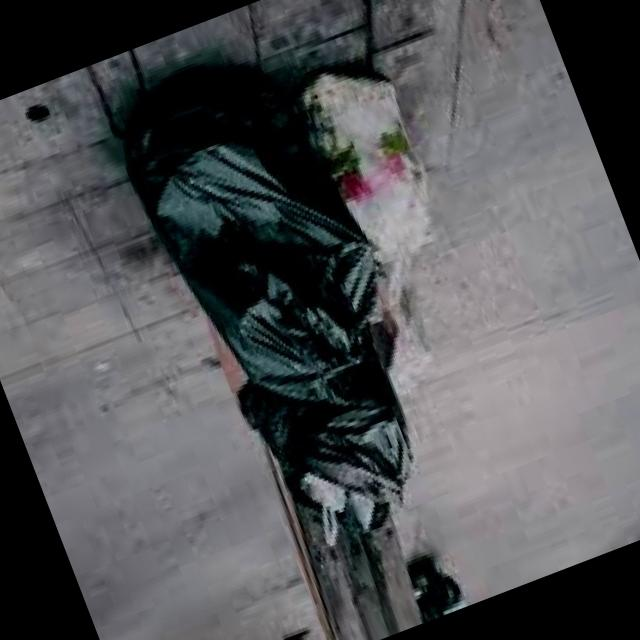high trash: (126, 73, 428, 546)
